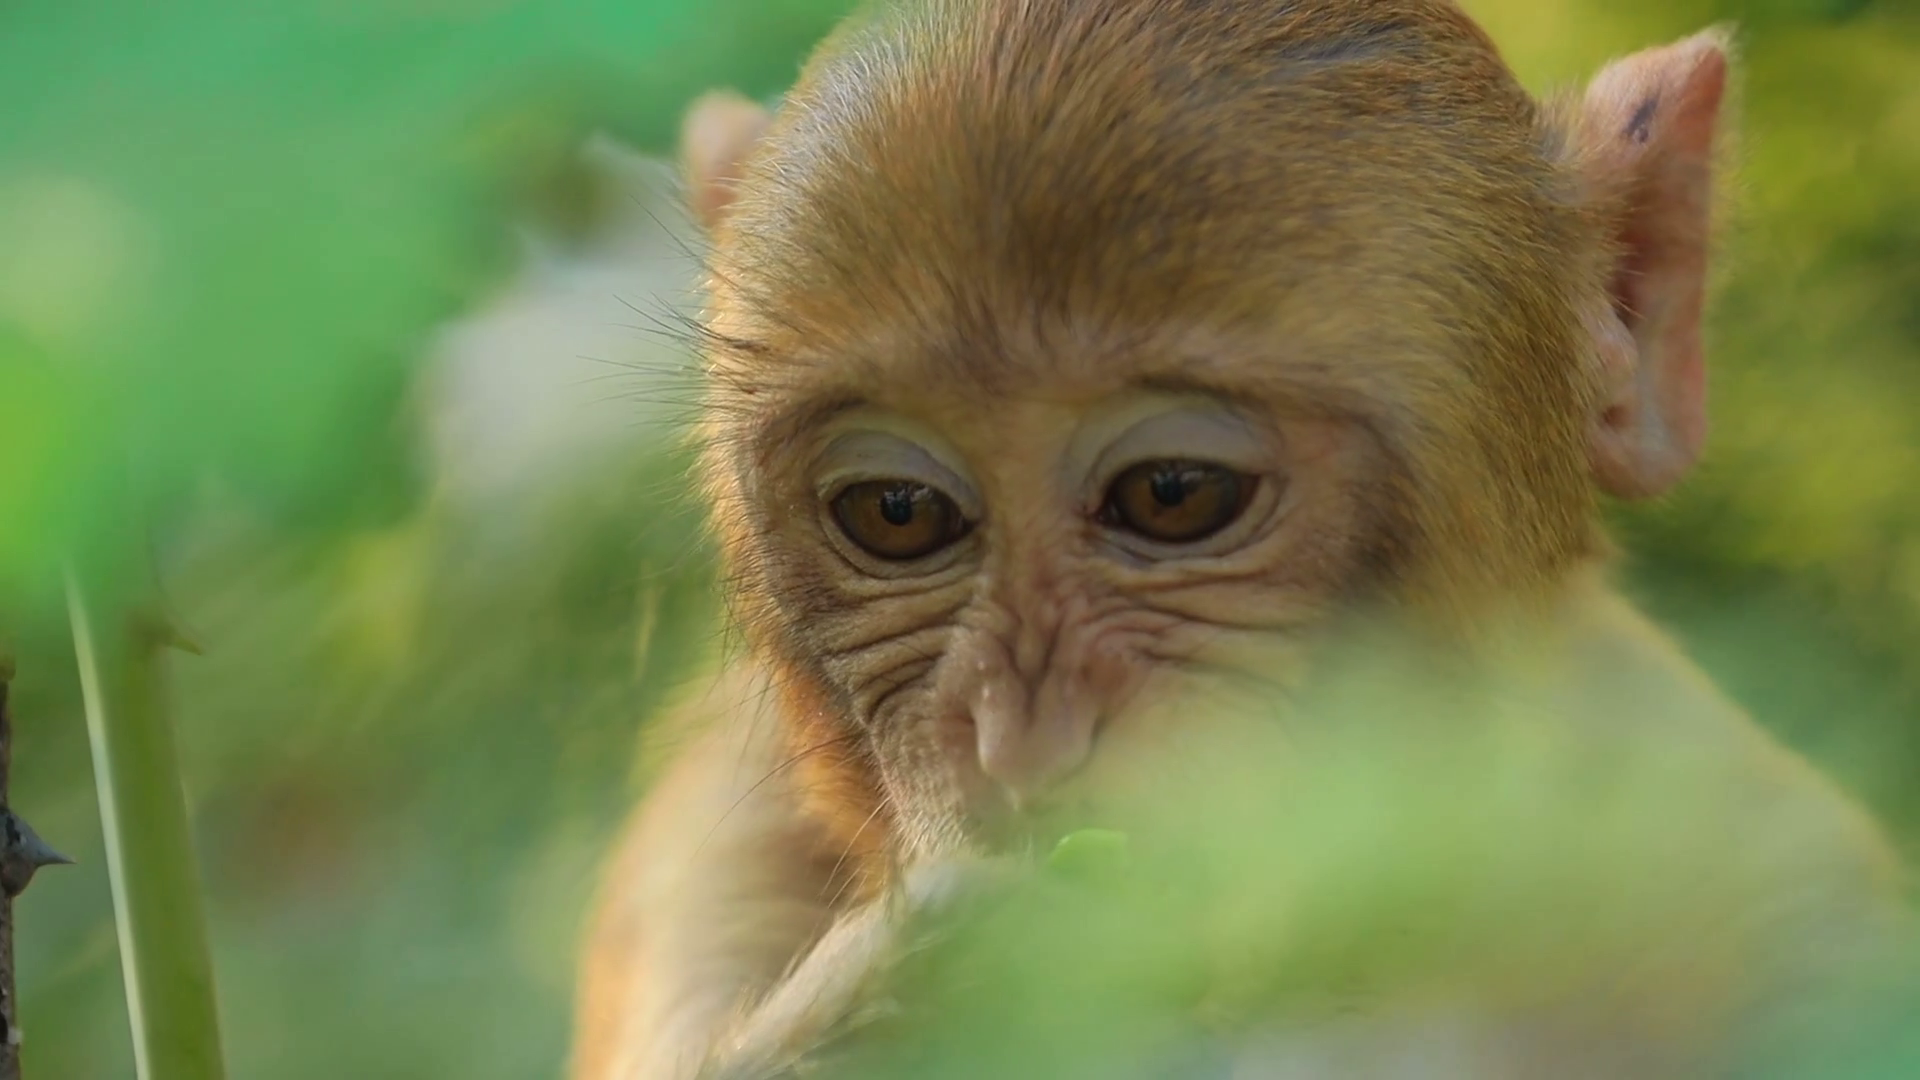monkey: (571, 1, 1762, 1080)
